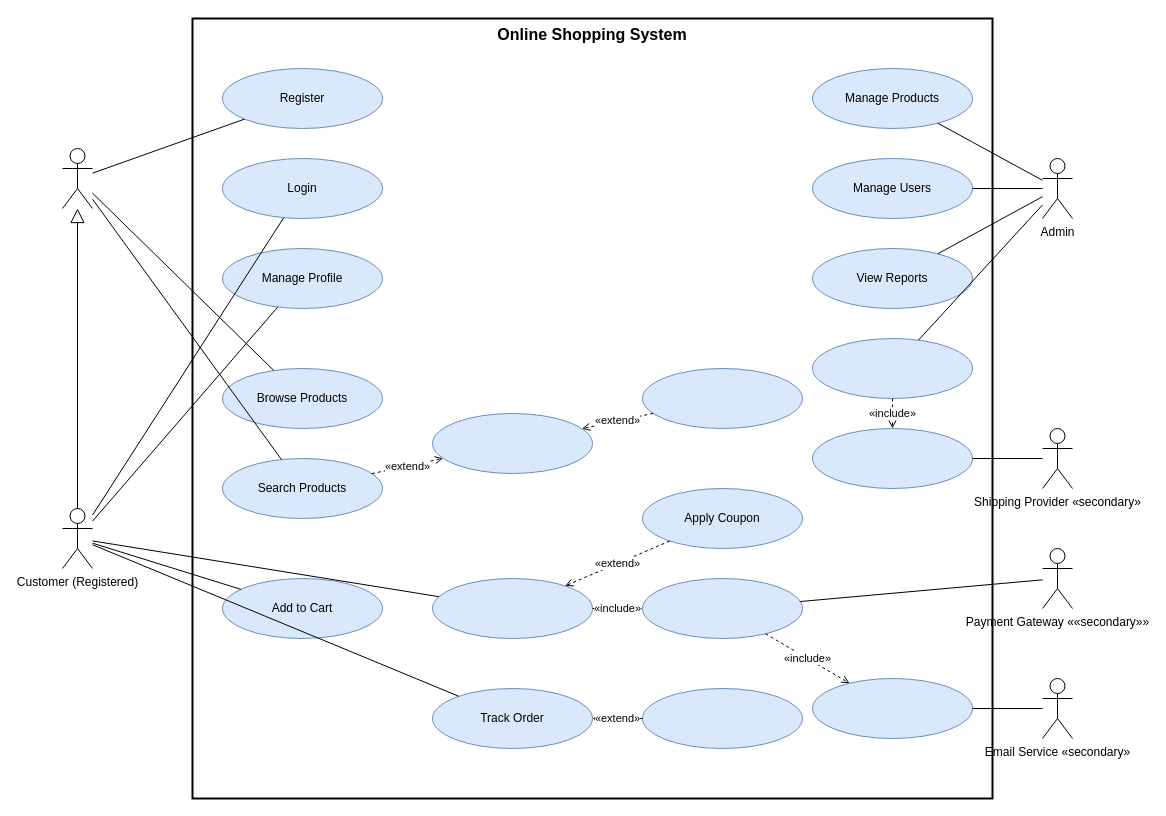
This 1166x816 diagram has some shape labels left out. Here are the shapes that lost their labels. From the top down, the centre of each, then its label:
At pixel 77 178: "Guest".
At pixel 892 368: "Manage Orders".
At pixel 722 398: "Write Review".
At pixel 512 443: "View Product Detail".
At pixel 892 458: "Update Shipping Status".
At pixel 512 608: "Checkout".
At pixel 722 608: "Make Payment".
At pixel 722 718: "Cancel Order".
At pixel 892 708: "Send Notification".
